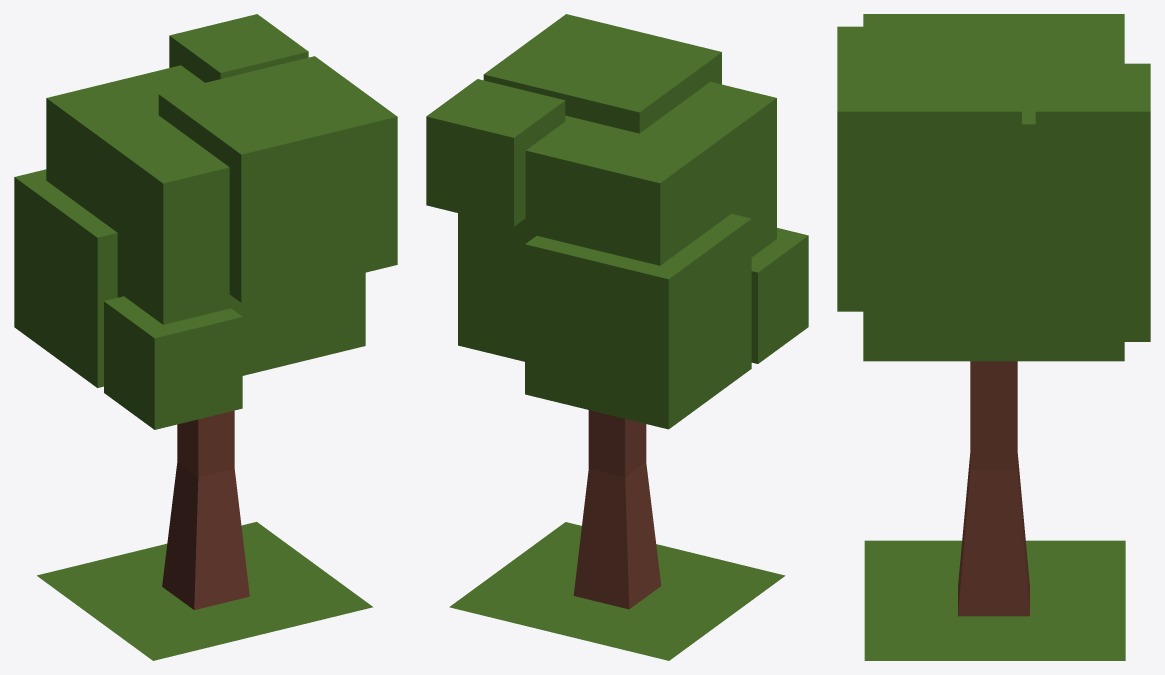
The model's file is tree_blocks.glb.
3 renders of one model, left to right at view 1: azimuth 30°, elevation 25°; view 2: azimuth 150°, elevation 25°; view 3: azimuth 270°, elevation 25°, orthographic. The views are drawn at different scales.
Parts seen in each view (by area): view 1: obstaculo; view 2: obstaculo; view 3: obstaculo.
Part boxes in pixels (x1,y1,x2,y2): obstaculo: (14,14,397,660); obstaculo: (426,14,808,660); obstaculo: (837,14,1150,660).
Size of the model in its own units: 1.93 by 3.8 by 1.93.
Materials: 1 (1 with a texture image).
